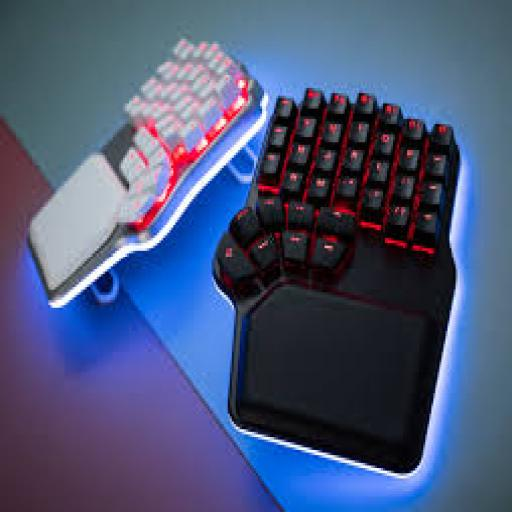keyboard: (212, 88, 461, 475)
